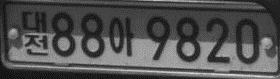0: (235, 17, 259, 63)
2: (206, 17, 230, 63)
8: (80, 12, 105, 59), (175, 16, 200, 62), (51, 11, 75, 57)
9: (146, 15, 170, 61)
대전_V: (21, 10, 48, 56)
아: (109, 16, 134, 56)
